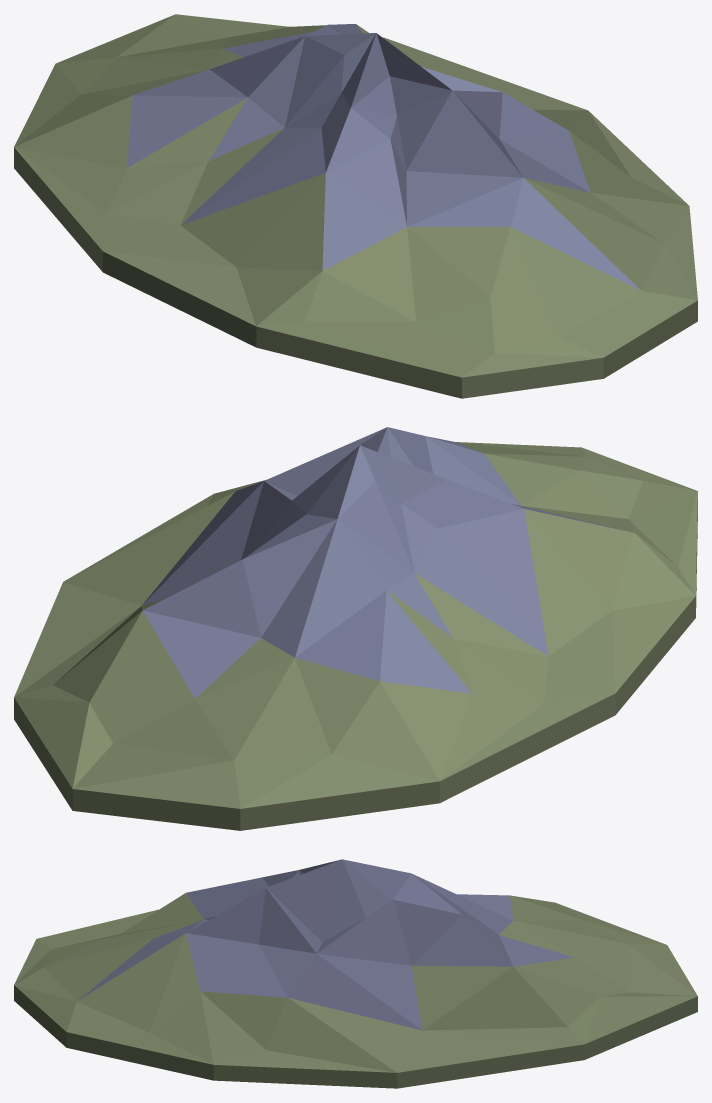
The model's file is massif_blue_buttress.glb.
3 views of the same model, one above another, from view 1: azimuth 30°, elevation 25°; view 2: azimuth 150°, elevation 25°; view 3: azimuth 270°, elevation 25° (orthographic). The views are drawn at different scales.
Parts seen in each view (by area): view 1: massif_blue_buttress; view 2: massif_blue_buttress; view 3: massif_blue_buttress.
Boxes of the visible parts, bbox=[...] form: massif_blue_buttress: bbox=[14, 14, 697, 398]; massif_blue_buttress: bbox=[14, 427, 697, 830]; massif_blue_buttress: bbox=[14, 859, 697, 1088].
Size of the model in its own units: 276 by 96.83 by 432.
